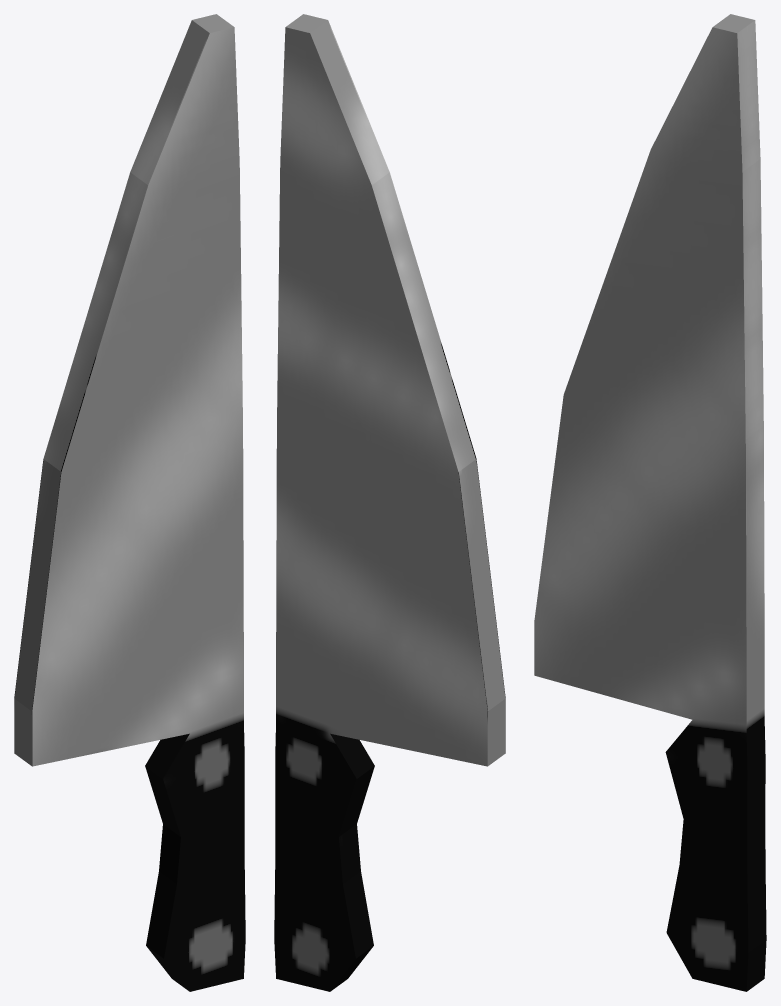
Rendered from FredDollKnife.fbx.
3 views of the same model, side by side, from view 1: azimuth 30°, elevation 25°; view 2: azimuth 150°, elevation 25°; view 3: azimuth 330°, elevation 25° (orthographic).
Parts seen in each view (by area): view 1: FredDollKnife; view 2: FredDollKnife; view 3: FredDollKnife.
Part boxes in pixels (left/top/right/bottom): FredDollKnife: left=14, top=14, right=245, bottom=991; FredDollKnife: left=274, top=14, right=505, bottom=991; FredDollKnife: left=534, top=14, right=766, bottom=991.
Bounding box in the file's own units: 56.75 × 242 × 8.3.
